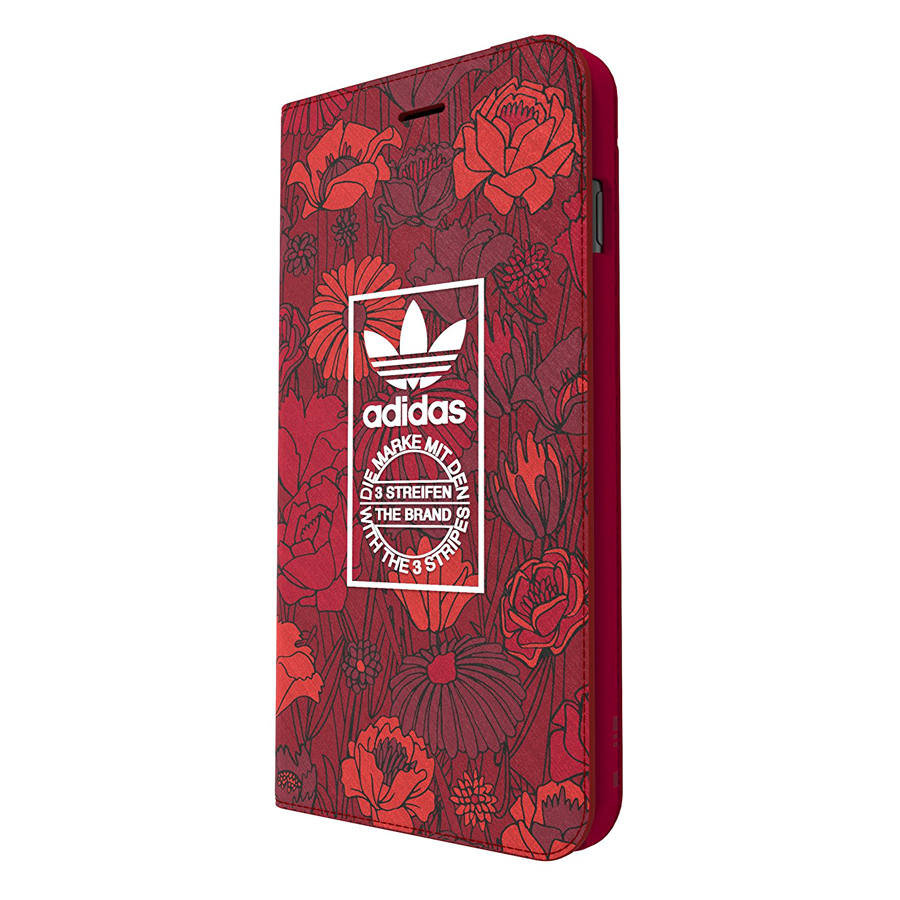Adidas: (355, 292, 477, 426)
